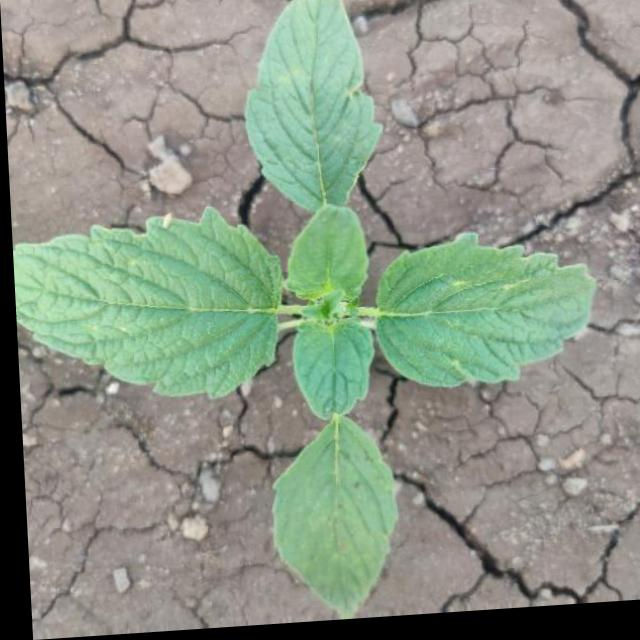crop: (4, 0, 607, 638)
